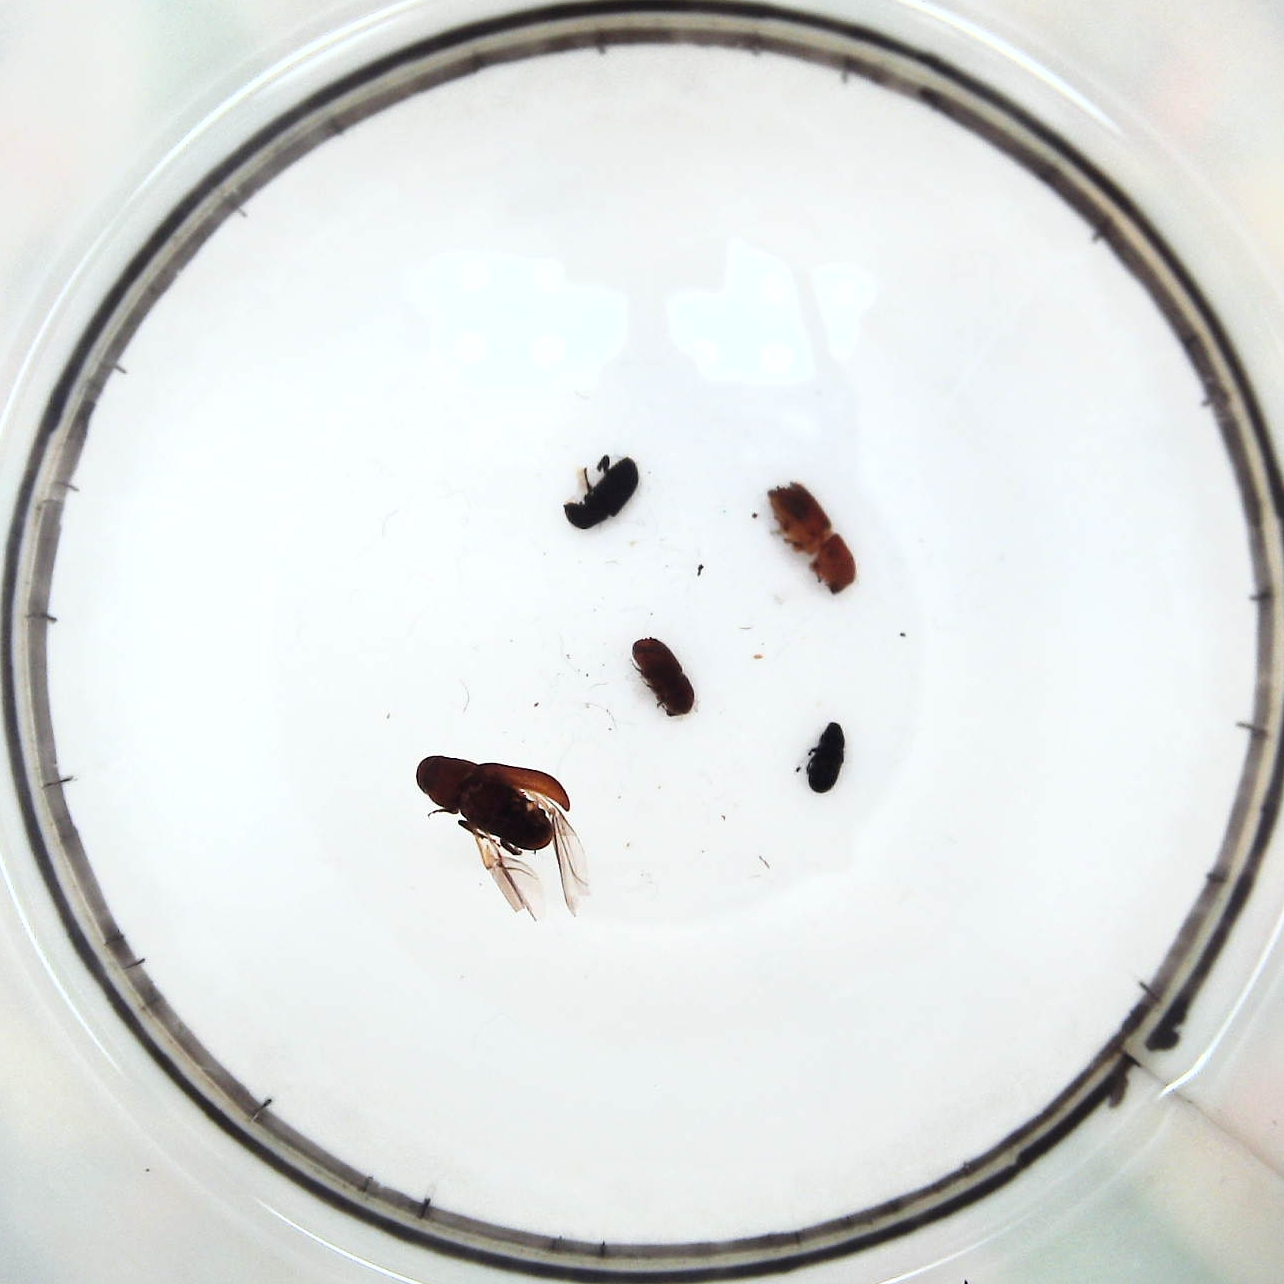Boerner: (767, 484, 857, 596)
Leconte: (415, 753, 588, 917)
Linnaeus: (627, 636, 694, 720)
armandi: (566, 456, 637, 530)
coleoptera: (809, 721, 848, 790)
